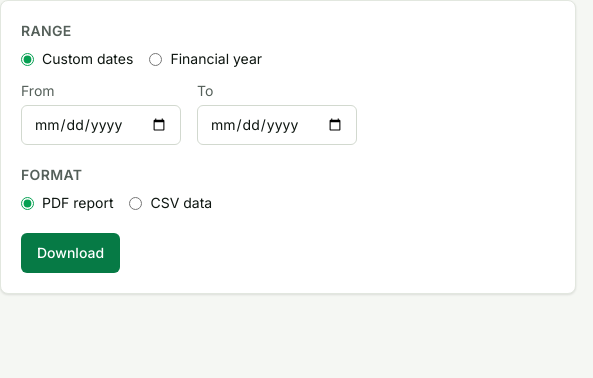
Scenario: ExportForm › requires both dates in custom mode
Type "2026-06-01" into the date field named "start date" at (101, 125), box [21,105,181,145]
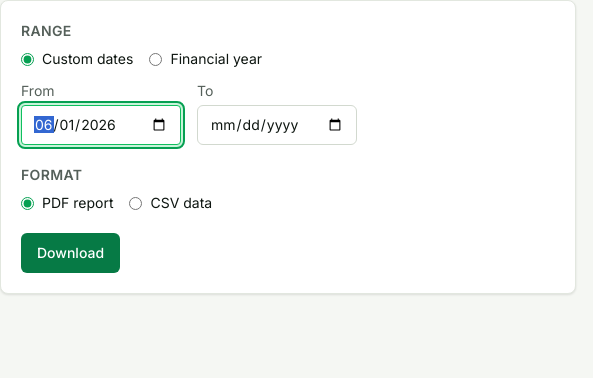
Click the button "Download" at (71, 253), box [21,233,120,273]
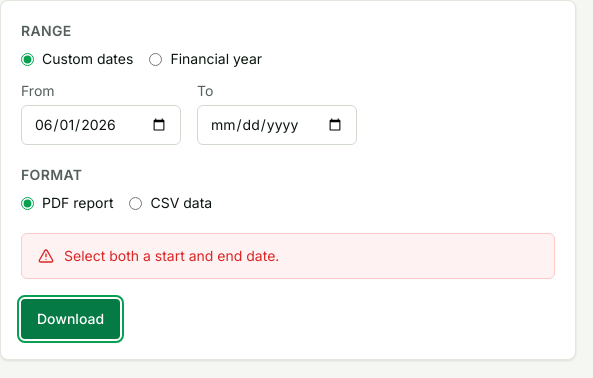
Now the message shows "both a start and end date", box [64,247,279,264]
